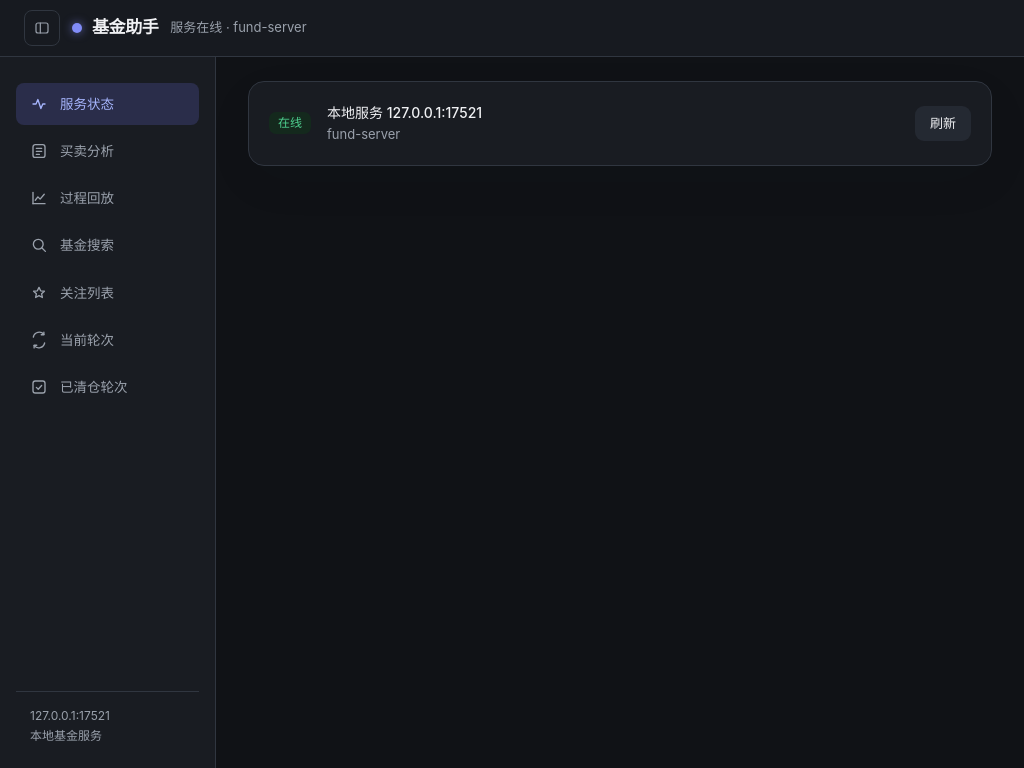
Scenario: App › 页签切换：买卖分析可进入
Check: the text "服务在线 · fund-server" is shown, box x1=170 y1=18 x2=307 y2=38
Click the button "买卖分析" at (108, 151), box x1=16 y1=130 x2=199 y2=172
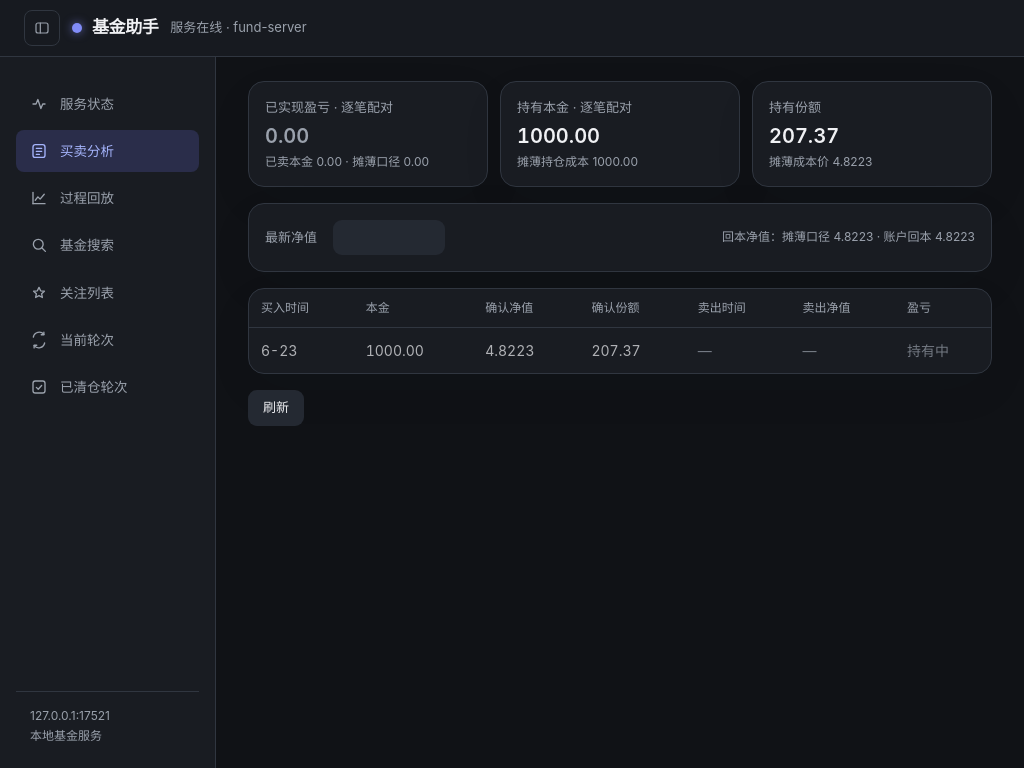
Check: the column heading "买入时间" is shown, box x1=249 y1=289 x2=354 y2=328
